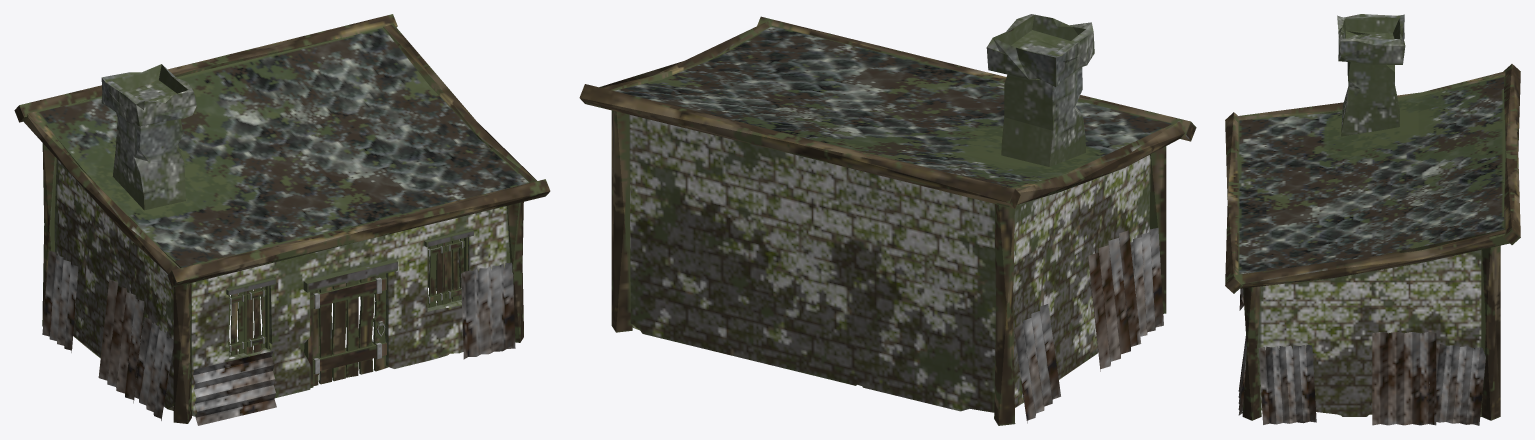
Rendered from Cabin.fbx.
The picture shows the model from 3 angles, left to right: view 1: azimuth 30°, elevation 25°; view 2: azimuth 150°, elevation 25°; view 3: azimuth 270°, elevation 25°; orthographic projection. The views are drawn at different scales.
Visible parts, largest first — view 1: Cabin; view 2: Cabin; view 3: Cabin.
Part boxes in pixels (left/top/right/bottom): Cabin: left=14, top=14, right=550, bottom=425; Cabin: left=579, top=14, right=1196, bottom=425; Cabin: left=1225, top=14, right=1520, bottom=425.
Bounding box in the file's own units: 674 × 494 × 507.
Materials: 2 (2 with a texture image).
